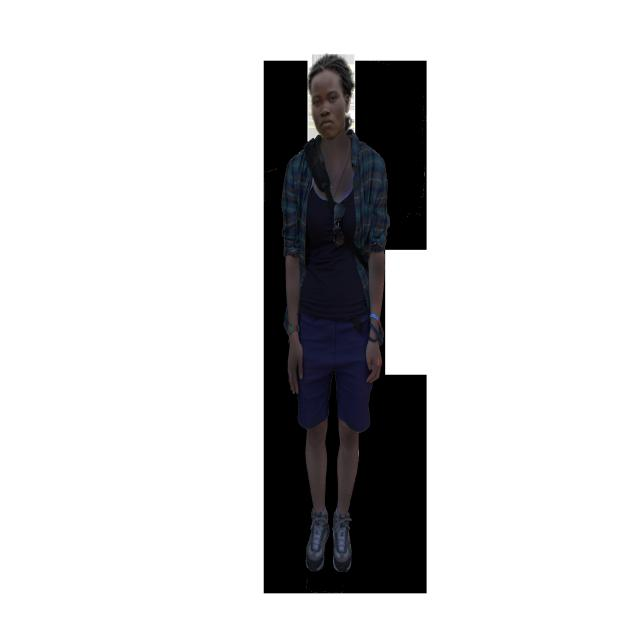jovem: (276, 43, 398, 583)
